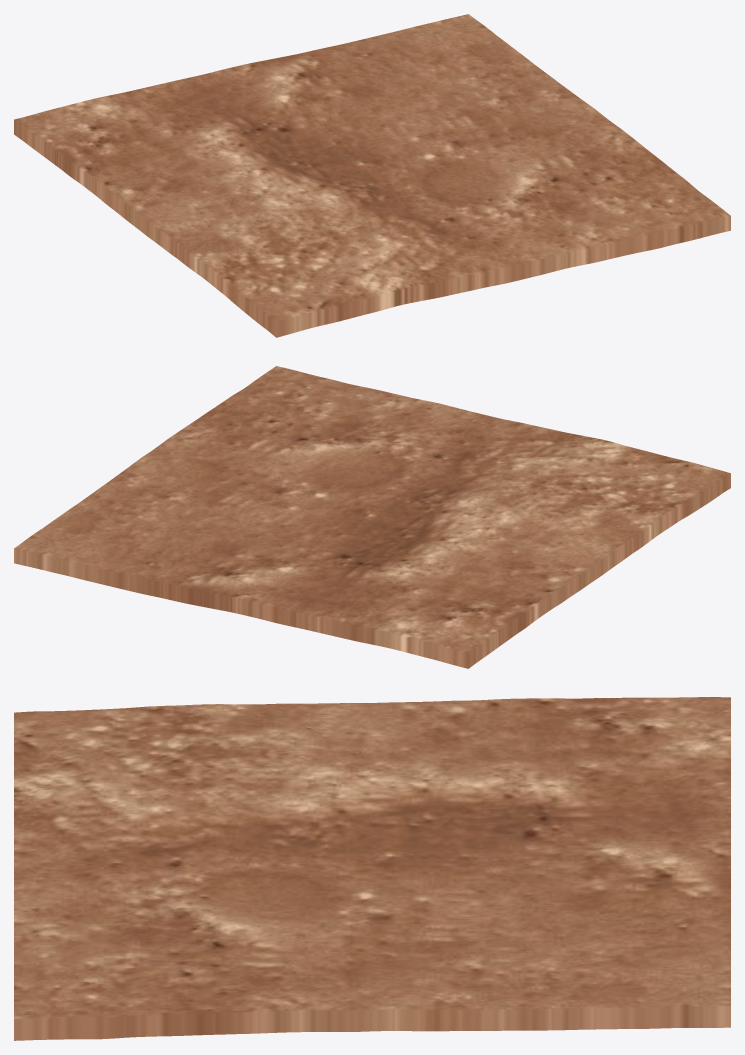
3 views of the same model, one above another, from view 1: azimuth 30°, elevation 25°; view 2: azimuth 150°, elevation 25°; view 3: azimuth 270°, elevation 25° (orthographic). The views are drawn at different scales.
Parts seen in each view (by area): view 1: L7_56_48; view 2: L7_56_48; view 3: L7_56_48.
Boxes of the visible parts, left/top/right/bottom form: L7_56_48: left=14, top=14, right=730, bottom=337; L7_56_48: left=14, top=366, right=730, bottom=668; L7_56_48: left=14, top=697, right=730, bottom=1040.
Bounding box in the file's own units: 113 × 7.52 × 113.
1 material, 1 textured.
